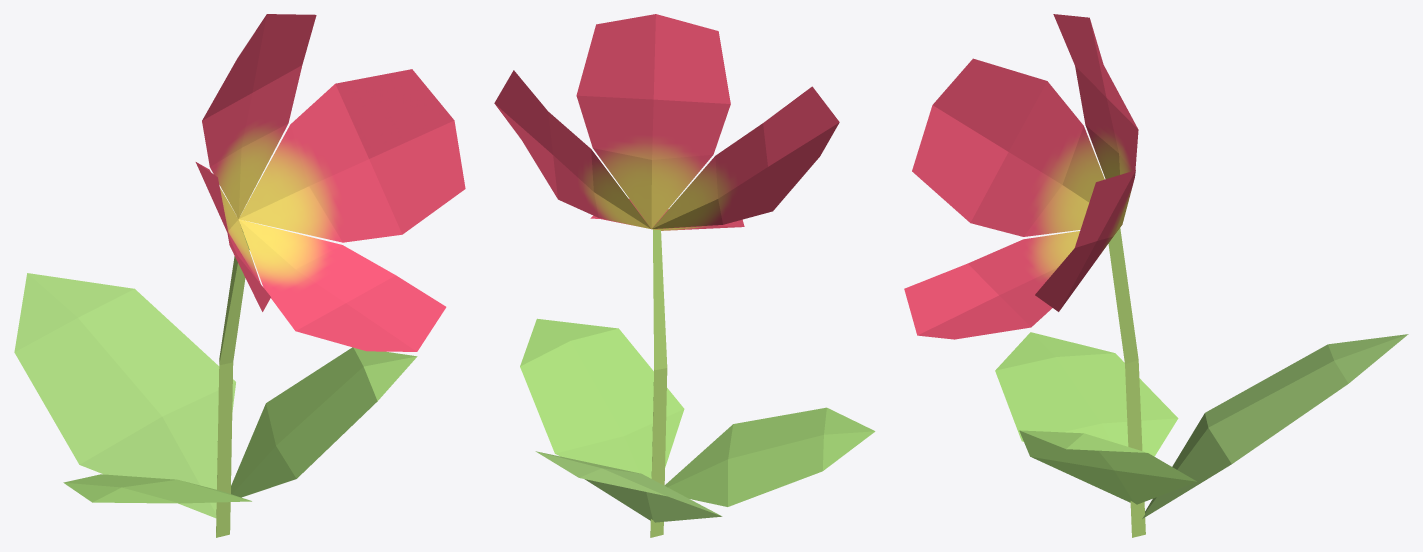
The model's file is Flower_c_OneS_09.fbx.
The picture shows the model from 3 angles, left to right: view 1: azimuth 30°, elevation 25°; view 2: azimuth 150°, elevation 25°; view 3: azimuth 270°, elevation 25°; orthographic projection. The views are drawn at different scales.
Visible parts, largest first — view 1: Flower_c_OneS_09; view 2: Flower_c_OneS_09; view 3: Flower_c_OneS_09.
Boxes of the visible parts, x1,y1,x2,y2 form: Flower_c_OneS_09: [14, 14, 465, 537]; Flower_c_OneS_09: [494, 14, 875, 537]; Flower_c_OneS_09: [904, 14, 1408, 537].
Size of the model in its own units: 0.3324 by 0.4399 by 0.3812.
